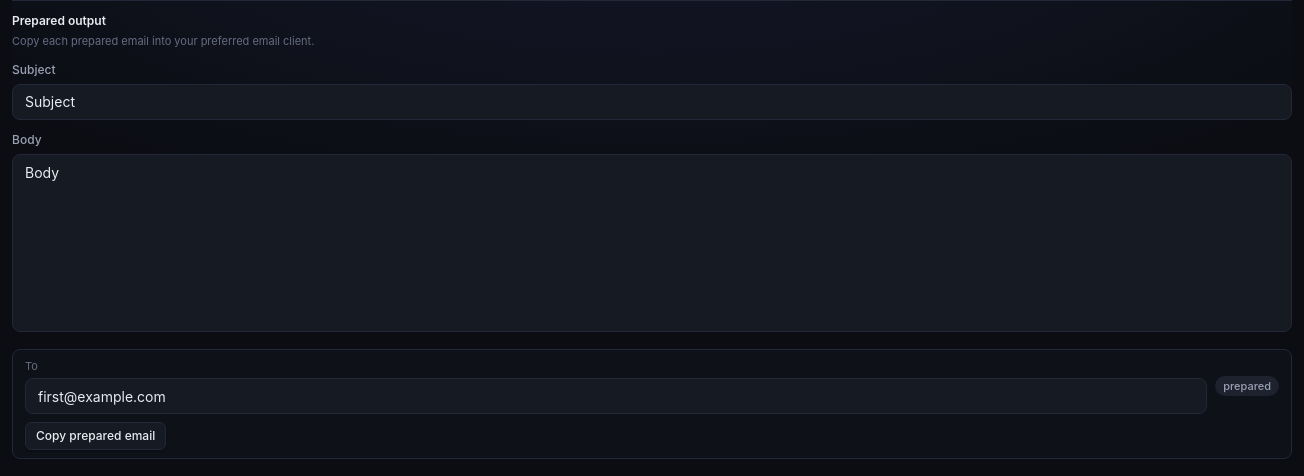
it: BulkOutputPanel › copies one recipient output and labels it copied
The width and height of the screenshot is (1304, 476).
Click the button with aria-label "Copy prepared email for first@example.com": click(96, 436) [25,422,166,450]
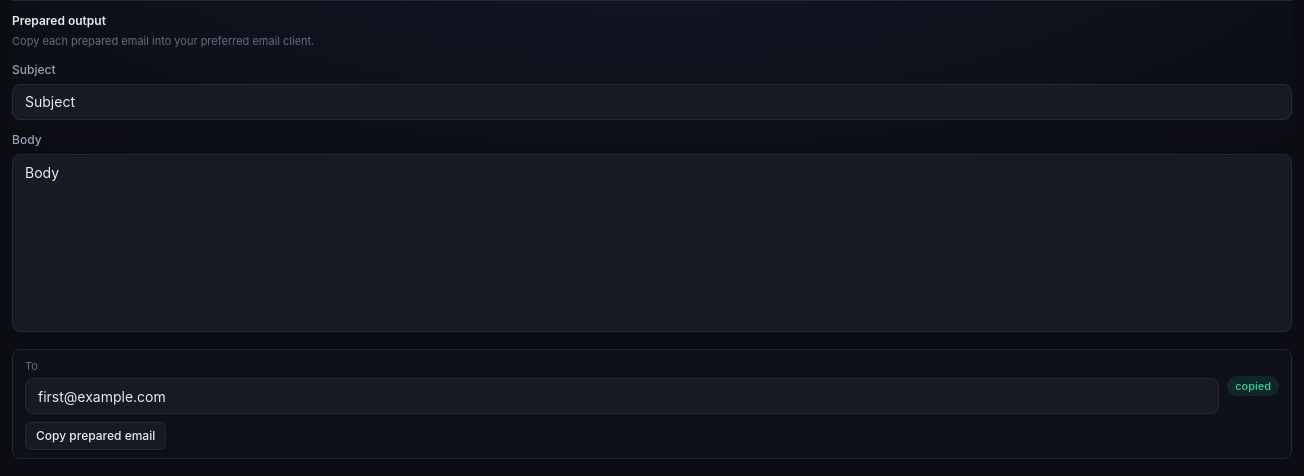
Expected: the text "copied" is shown, [1227,376,1279,396]
